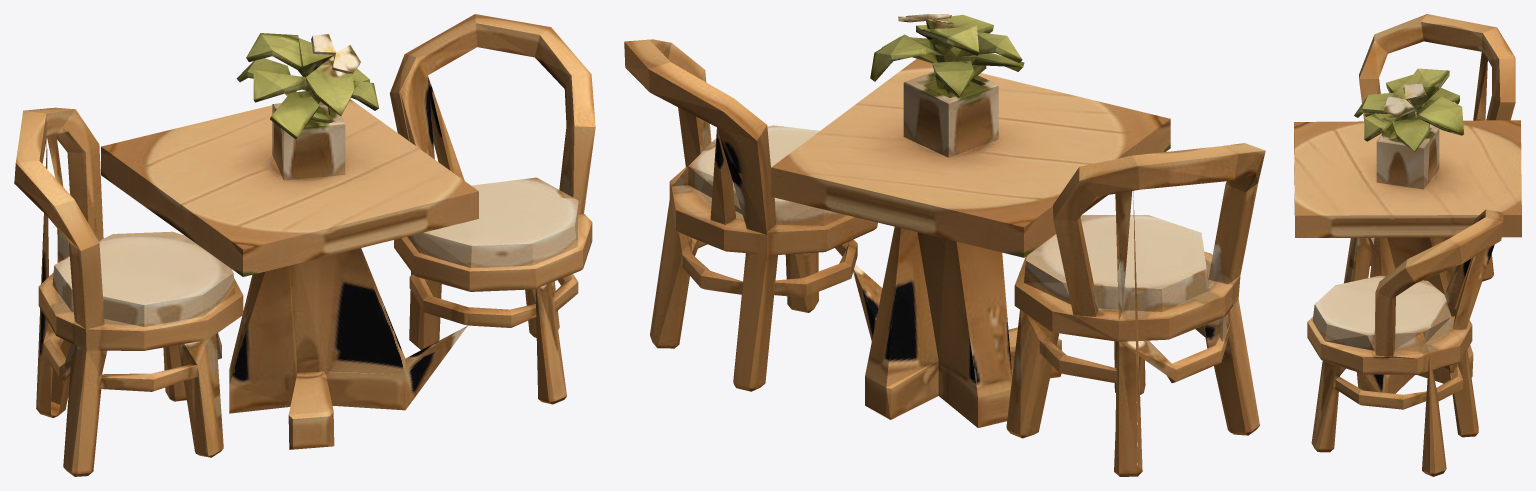
File: tables-BcWRi2qC.glb
3 views of the same model, side by side, from view 1: azimuth 30°, elevation 25°; view 2: azimuth 150°, elevation 25°; view 3: azimuth 270°, elevation 25° (orthographic). The views are drawn at different scales.
Parts seen in each view (by area): view 1: tripo_node_4111824b-ceb7-457f-aa6b-e2b60faf4342; view 2: tripo_node_4111824b-ceb7-457f-aa6b-e2b60faf4342; view 3: tripo_node_4111824b-ceb7-457f-aa6b-e2b60faf4342.
Part boxes in pixels (x1,y1,x2,y2): tripo_node_4111824b-ceb7-457f-aa6b-e2b60faf4342: [14, 14, 595, 476]; tripo_node_4111824b-ceb7-457f-aa6b-e2b60faf4342: [624, 14, 1265, 476]; tripo_node_4111824b-ceb7-457f-aa6b-e2b60faf4342: [1294, 14, 1521, 476].
Bounding box in the file's own units: 0.9774 × 0.6063 × 0.4227.
Materials: 1 (1 with a texture image).
